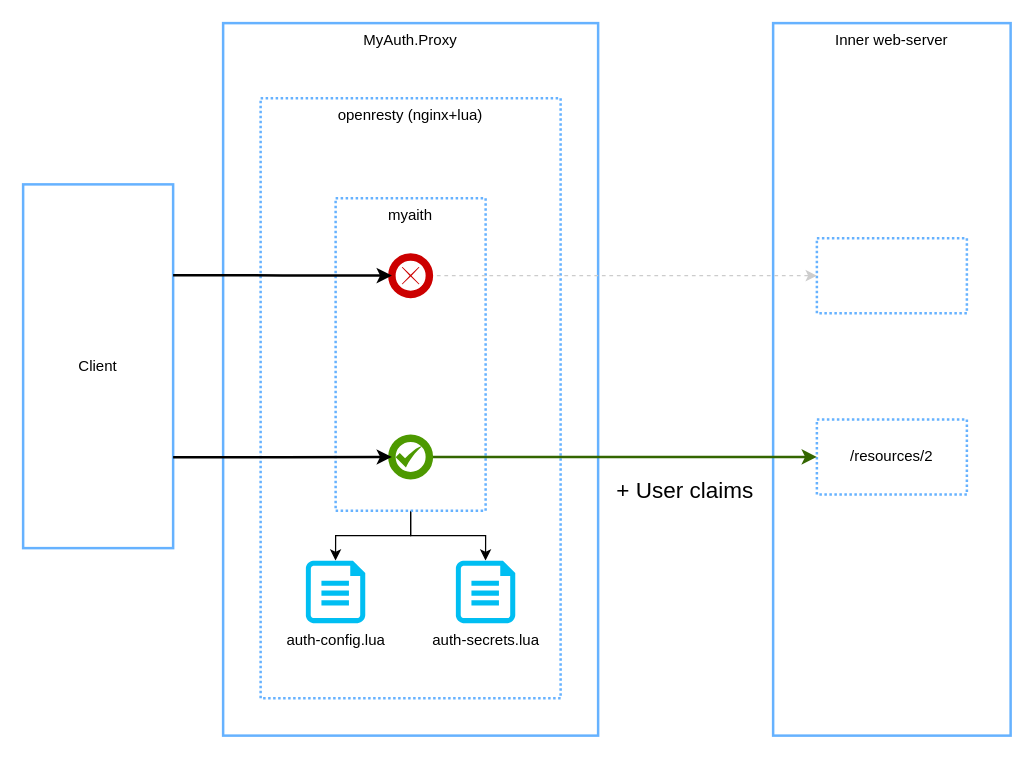
The diagram is 1033 pixels wide and 758 high, and some of its shapes have lost their labels. Here are the shapes that lost their labels. From the top down, the centre of each, then its label:
the point at 410,275: 403 Forbidden
the point at 891,275: /resources/1
